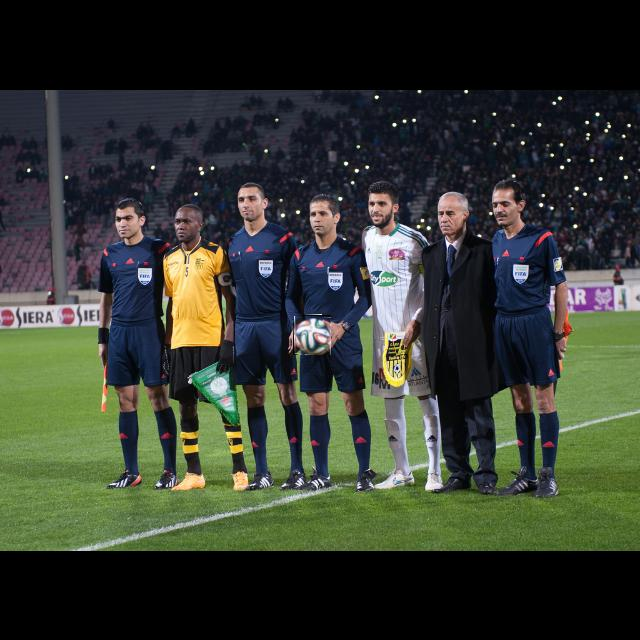Football: (293, 315, 331, 355)
